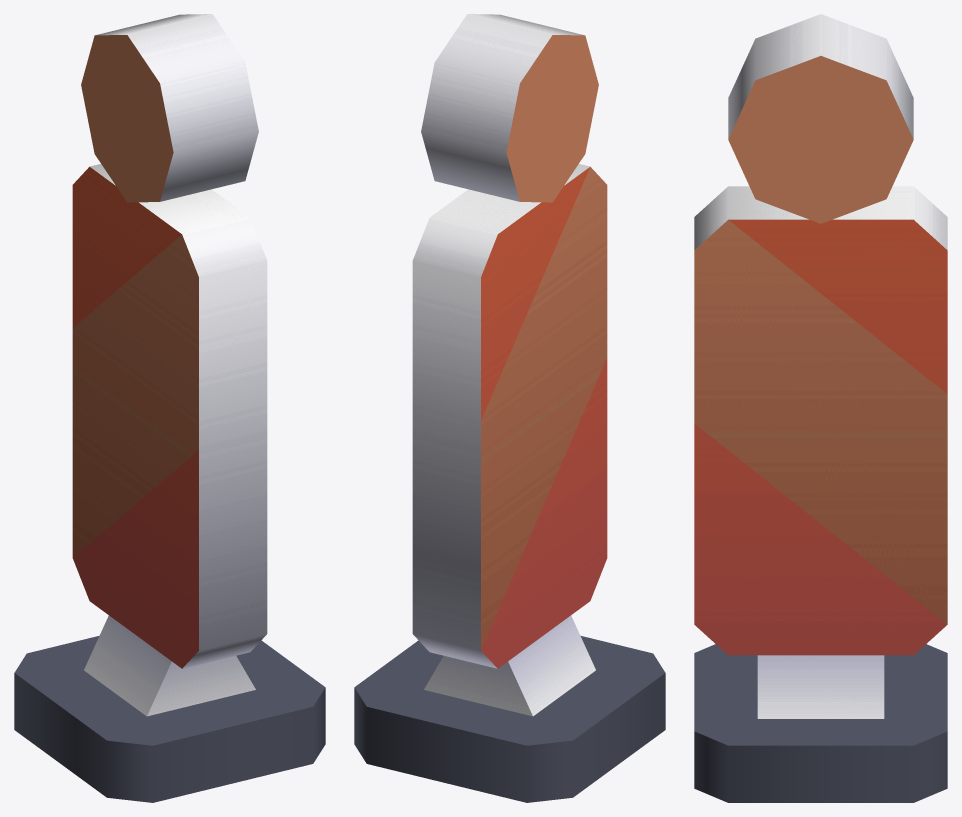
The model's file is construction-light.glb.
3 views of the same model, side by side, from view 1: azimuth 30°, elevation 25°; view 2: azimuth 150°, elevation 25°; view 3: azimuth 270°, elevation 25° (orthographic).
Visible parts, largest first — view 1: construction-light; view 2: construction-light; view 3: construction-light.
Part boxes in pixels (box(x1,y1,x2,y2)): construction-light: box(14, 14, 325, 802); construction-light: box(354, 14, 665, 802); construction-light: box(694, 14, 947, 802).
Bounding box in the file's own units: 0.075 × 0.2337 × 0.075.
1 material, 1 textured.
